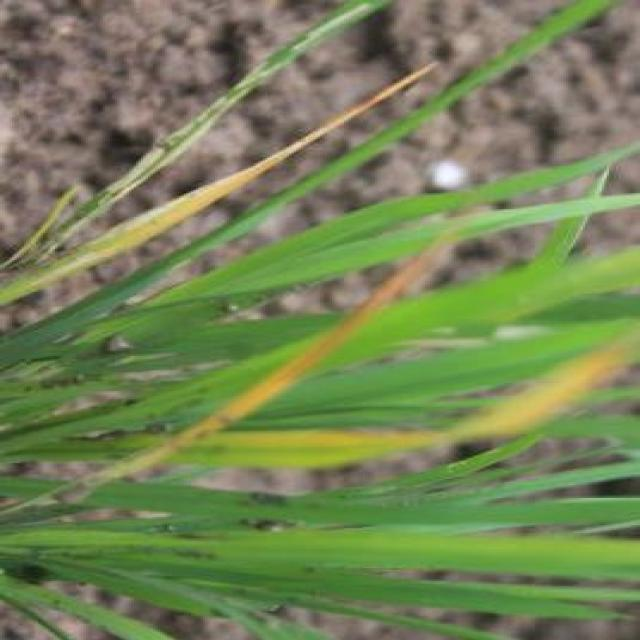Rice Tungro: (293, 65, 406, 173), (121, 168, 243, 262), (304, 271, 397, 385)
